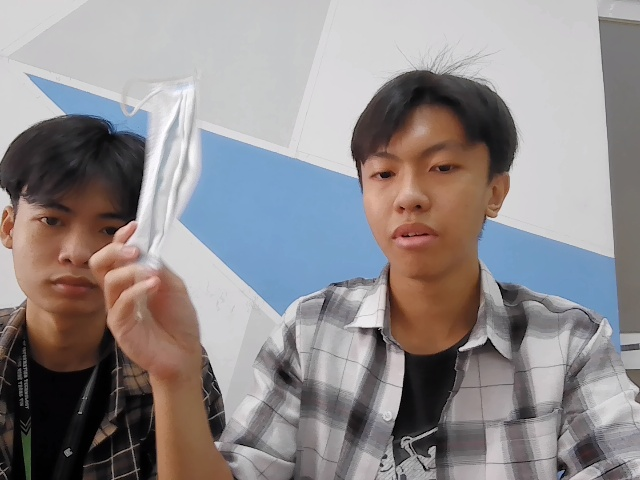human: (350, 66, 524, 280), (7, 113, 130, 316)
mask: (119, 71, 221, 284)
